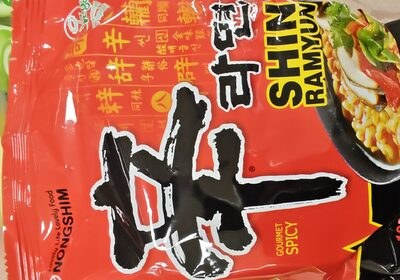Shin Ramyun Instant Noedels, Heet en pittig: (20, 14, 380, 266)
